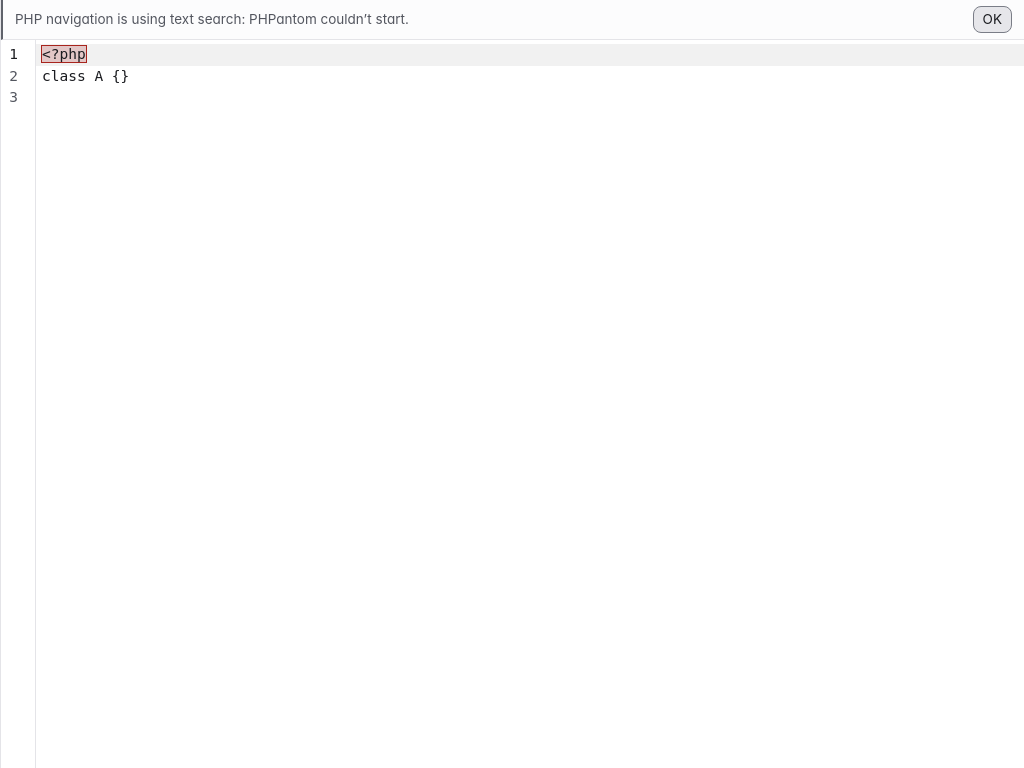
Test: FileEditor when PHPantom couldn’t start › says so once on a PHP file, with the reason in the tooltip, until OK
Check: the text "using text search: PHPantom couldn’t start" is shown once, box [15,11,409,27]
Click the button "OK" at (992, 19), box [973,6,1012,33]
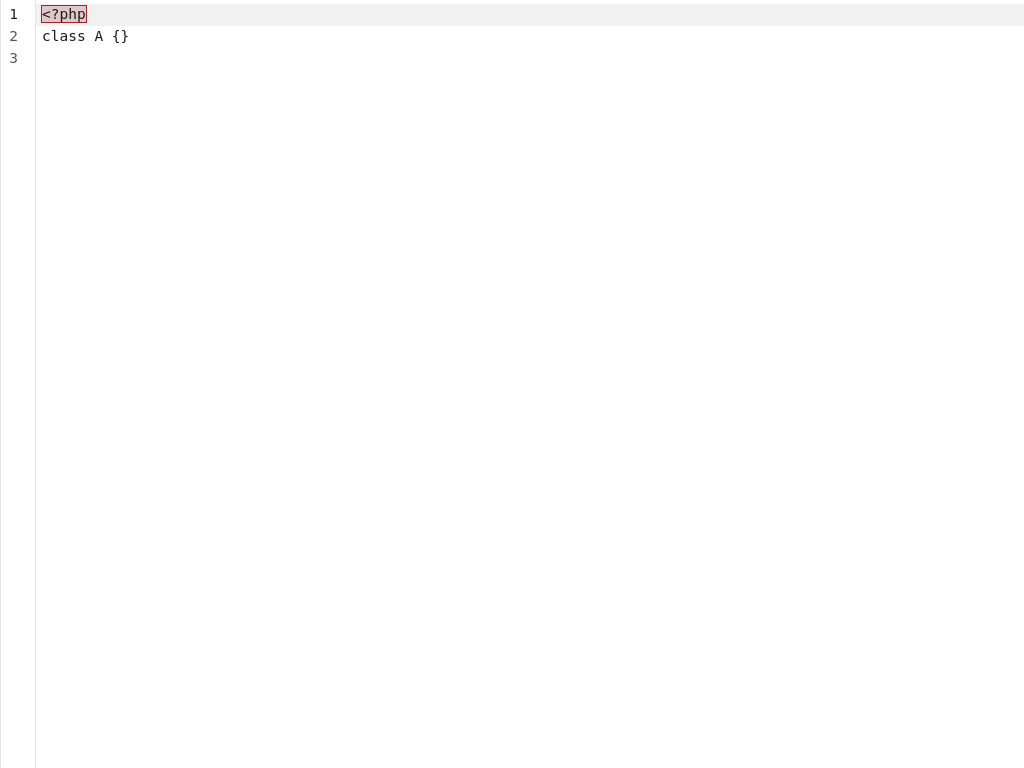
Check: the text "using text search: PHPantom couldn’t start" is gone
